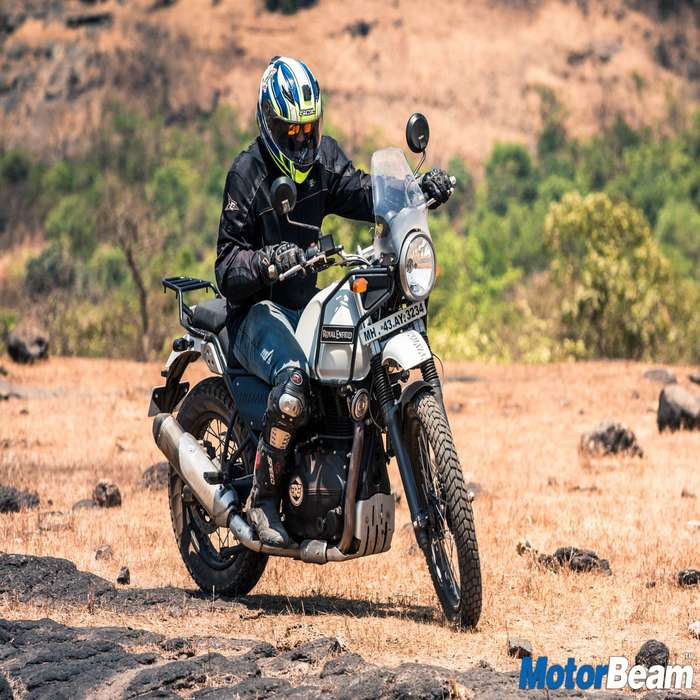h: (256, 54, 322, 191)
n: (360, 299, 431, 339)
